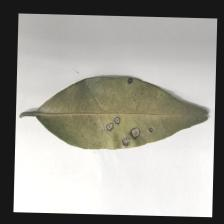canker: (99, 114, 143, 146)
